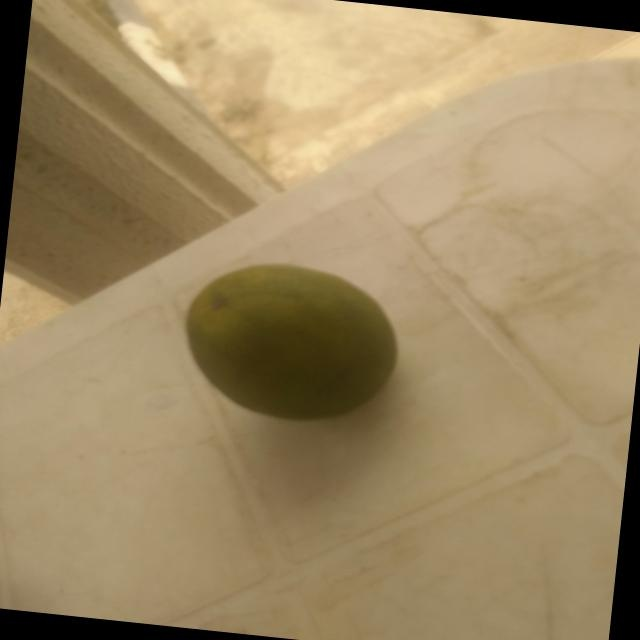agrume: (128, 219, 484, 476)
